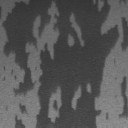red iron: (2, 0, 120, 128), (118, 76, 128, 117), (121, 18, 128, 50), (14, 115, 25, 128), (10, 68, 18, 80), (20, 103, 27, 114), (118, 0, 126, 4), (0, 5, 2, 20), (106, 112, 109, 119), (3, 66, 6, 70)
